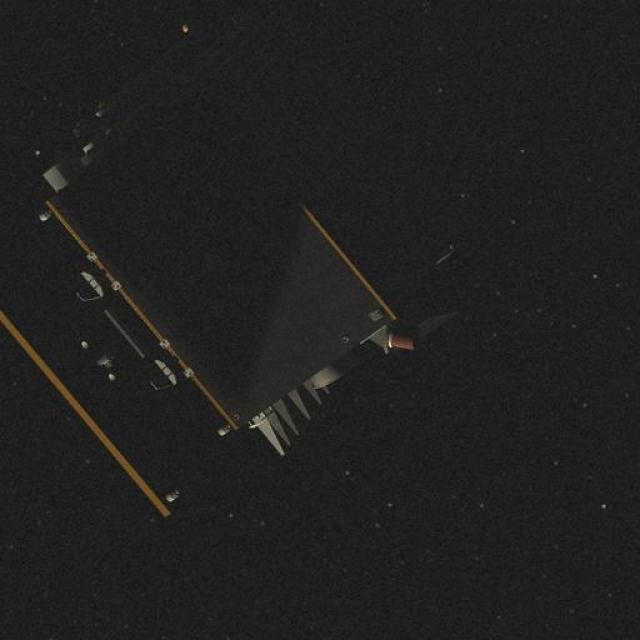proba_2: (4, 27, 462, 540)
